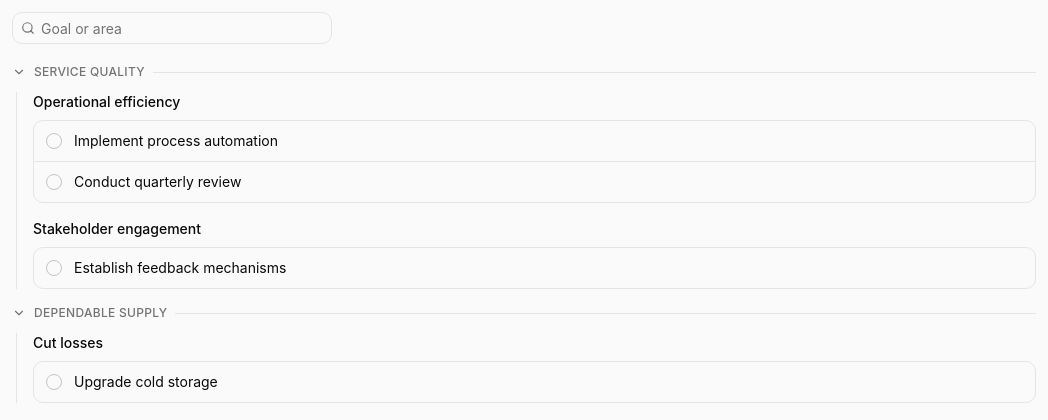
Test: ChipPicker › drops a whole branch when a search leaves nothing in it
Type "cold" into the field with placeholder "Goal or area" at coordinates (183, 28), box [35,12,331,44]
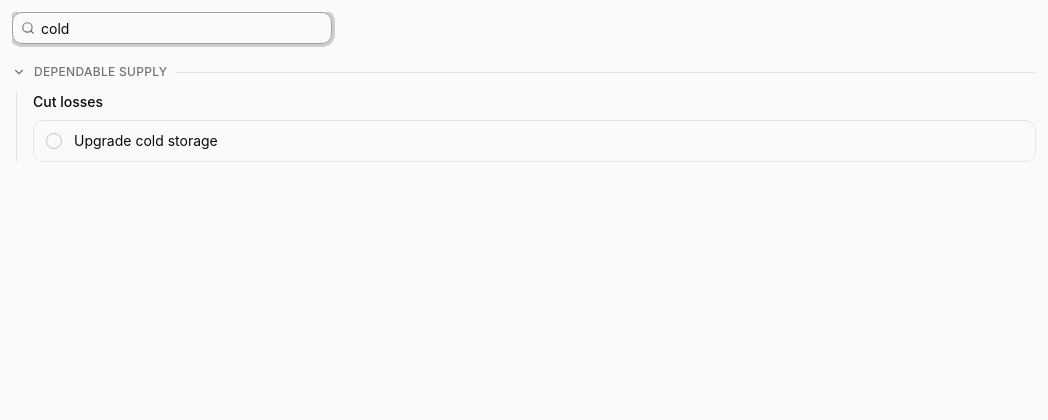
Expected: the heading "Dependable Supply" is shown, [34,64,167,80]
Expected: the button "Service Quality" is gone
